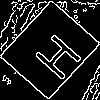H: (25, 25, 85, 83)
